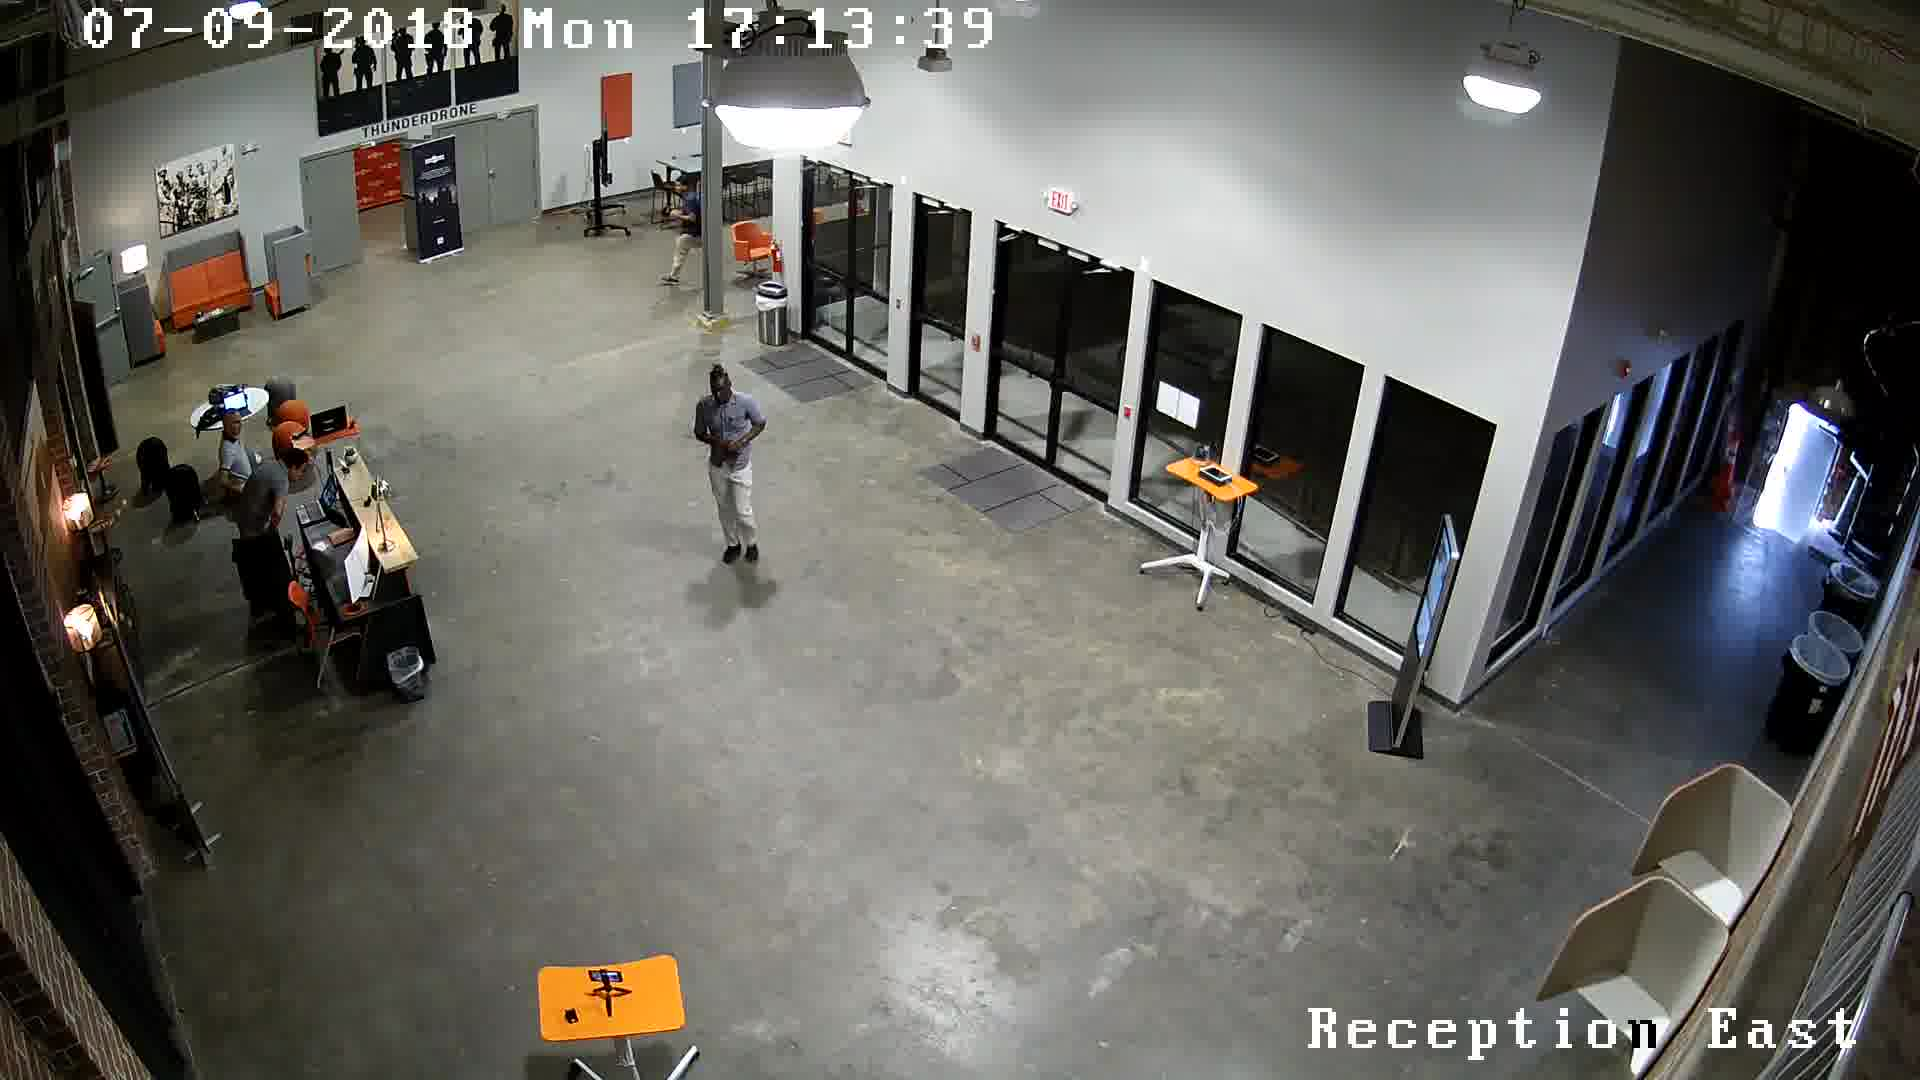pistol: (705, 443, 737, 472)
